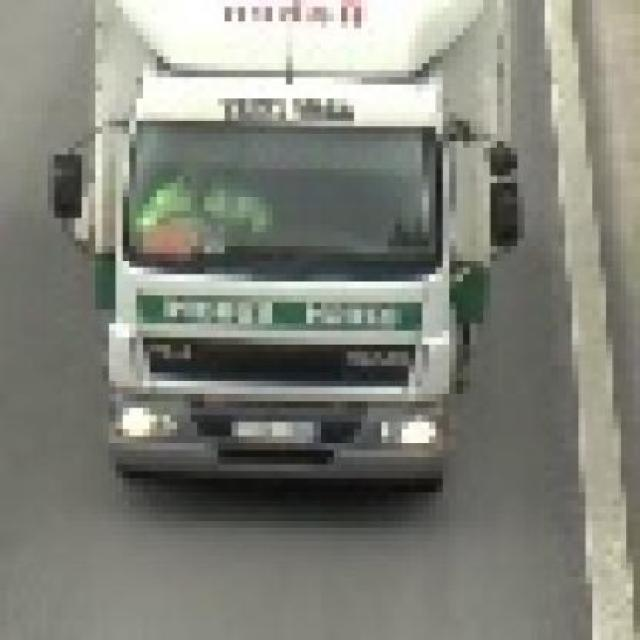truck: (41, 1, 510, 521)
